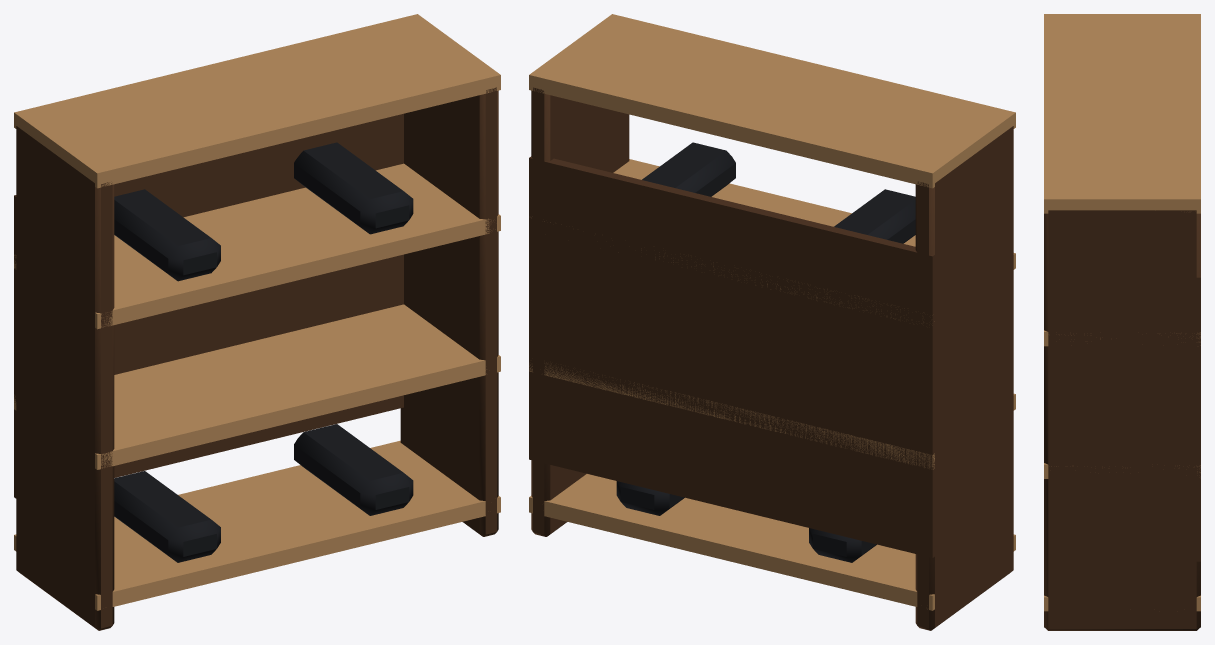
File: locker_shoe_rack.glb
3 renders of one model, left to right at view 1: azimuth 30°, elevation 25°; view 2: azimuth 150°, elevation 25°; view 3: azimuth 270°, elevation 25°, orthographic. The views are drawn at different scales.
Visible parts, largest first — view 1: locker_shoe_rack; view 2: locker_shoe_rack; view 3: locker_shoe_rack.
Boxes of the visible parts, box(x1,y1,x2,y2) form: locker_shoe_rack: box(14, 14, 500, 630); locker_shoe_rack: box(529, 14, 1015, 630); locker_shoe_rack: box(1044, 14, 1200, 630).
Bounding box in the file's own units: 0.84 × 0.915 × 0.3.
